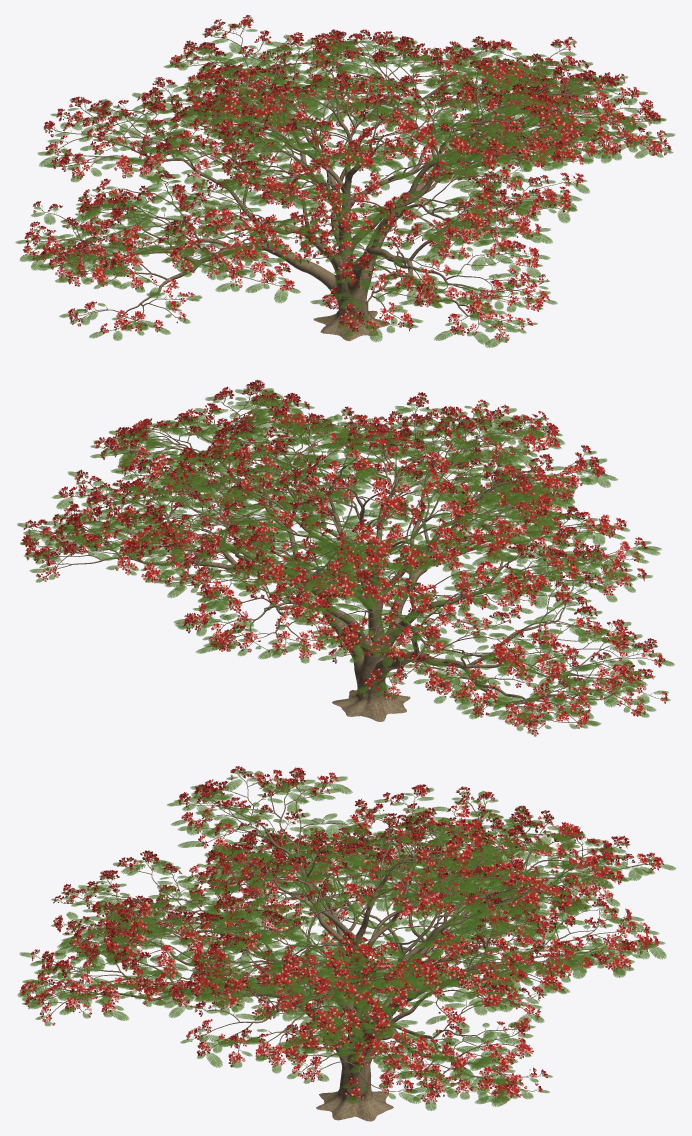
The model's file is gulmohar.glb.
The picture shows the model from 3 angles, top to bottom: view 1: azimuth 30°, elevation 25°; view 2: azimuth 150°, elevation 25°; view 3: azimuth 270°, elevation 25°; orthographic projection. The views are drawn at different scales.
Visible parts, largest first — view 1: Delonix_regia_HD; view 2: Delonix_regia_HD; view 3: Delonix_regia_HD.
Boxes of the visible parts, x1,y1,x2,y2 form: Delonix_regia_HD: (15,15,674,347); Delonix_regia_HD: (17,379,674,736); Delonix_regia_HD: (17,766,676,1121).
Bounding box in the file's own units: 12.27 × 5.1 × 11.15.
Materials: 9 (8 with a texture image).
